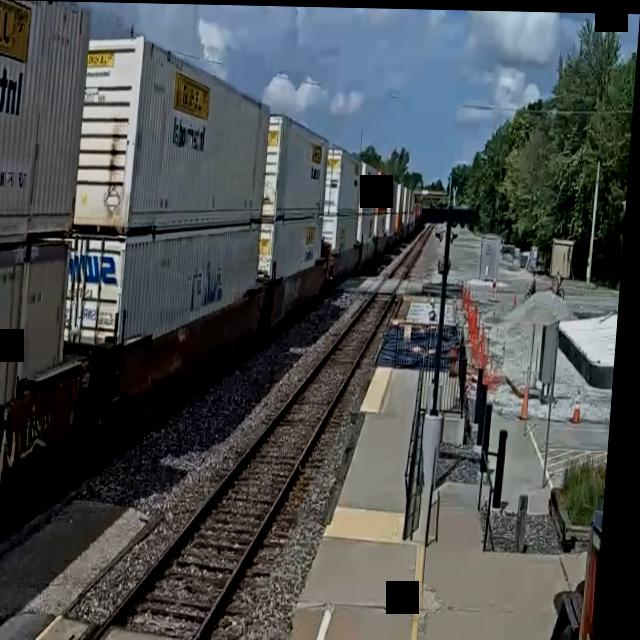container: (74, 27, 282, 241), (65, 213, 268, 359), (0, 0, 96, 262), (0, 228, 83, 477), (265, 107, 334, 223)
flatcar: (89, 272, 273, 456), (0, 346, 98, 625)
